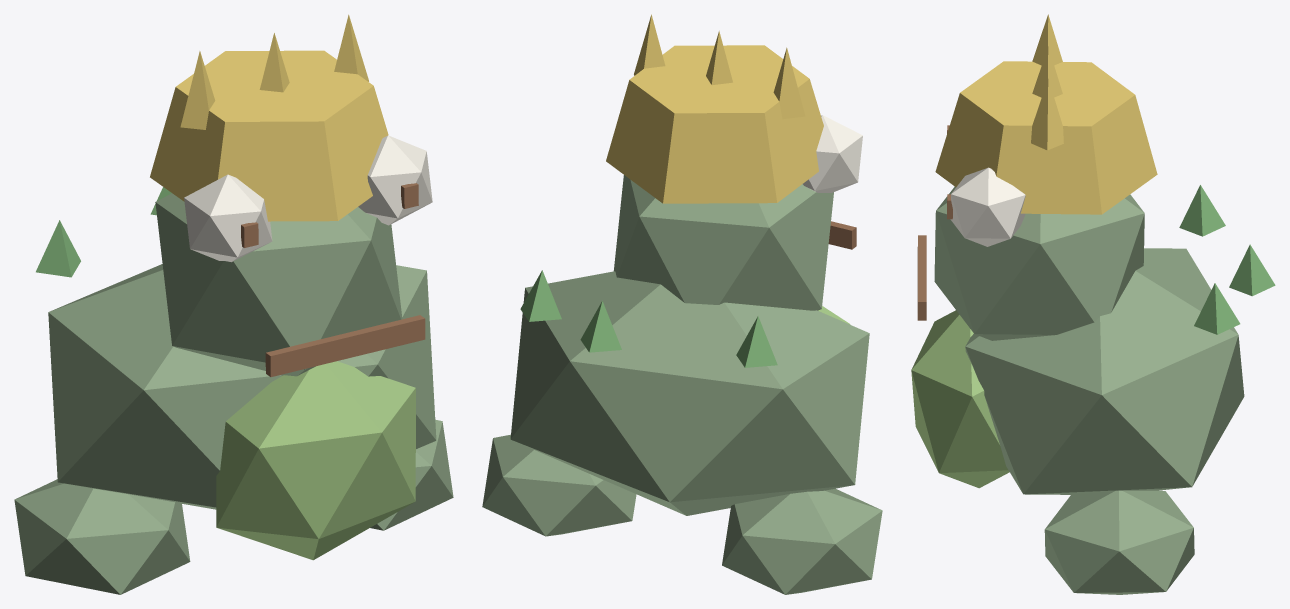
The model's file is npcpose_toad_king_attack_13.glb.
The picture shows the model from 3 angles, left to right: view 1: azimuth 30°, elevation 25°; view 2: azimuth 150°, elevation 25°; view 3: azimuth 270°, elevation 25°; orthographic projection. The views are drawn at different scales.
Parts seen in each view (by area): view 1: npcpose; view 2: npcpose; view 3: npcpose.
Part boxes in pixels (x1,y1,x2,y2): npcpose: (14,14,453,594); npcpose: (482,14,882,594); npcpose: (911,14,1275,594).
Size of the model in its own units: 1.75 by 2.23 by 1.5.
